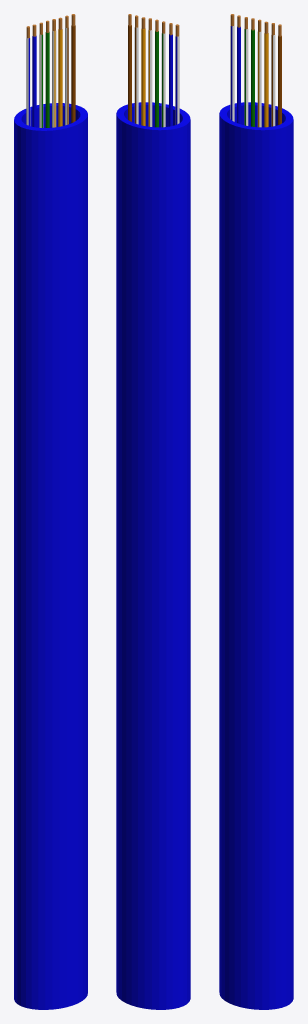
Rendered from remodelUnbundleCable.fbx.
3 renders of one model, left to right at view 1: azimuth 30°, elevation 25°; view 2: azimuth 150°, elevation 25°; view 3: azimuth 330°, elevation 25°, orthographic.
Parts seen in each view (by area): view 1: Main Cable, Orange, Brown, Orange/White, Green, Green/White, Blue, Blue/White, Brown/White; view 2: Main Cable, Orange/White, Brown/White, Orange, Green/White, Blue/White, Green, Brown, Blue; view 3: Main Cable, Green/White, Orange/White, Blue/White, Orange, Brown/White, Green, Blue, Brown.
Part boxes in pixels (left/top/right/bottom): Main Cable: left=14, top=103, right=87, bottom=1009; Orange: left=58, top=29, right=62, bottom=126; Brown: left=71, top=25, right=75, bottom=123; Orange/White: left=52, top=30, right=56, bottom=127; Green: left=45, top=32, right=49, bottom=127; Green/White: left=39, top=34, right=43, bottom=127; Blue: left=32, top=36, right=36, bottom=127; Blue/White: left=26, top=37, right=30, bottom=125; Brown/White: left=65, top=27, right=68, bottom=125; Main Cable: left=116, top=102, right=190, bottom=1009; Orange/White: left=148, top=29, right=152, bottom=126; Brown/White: left=134, top=27, right=138, bottom=124; Orange: left=141, top=28, right=145, bottom=125; Green/White: left=161, top=33, right=165, bottom=127; Blue/White: left=175, top=36, right=179, bottom=124; Green: left=155, top=31, right=158, bottom=127; Brown: left=128, top=25, right=131, bottom=121; Blue: left=169, top=34, right=172, bottom=126; Main Cable: left=219, top=102, right=293, bottom=1009; Green/White: left=244, top=28, right=248, bottom=125; Orange/White: left=257, top=31, right=261, bottom=127; Blue/White: left=230, top=25, right=234, bottom=121; Orange: left=264, top=33, right=268, bottom=127; Brown/White: left=271, top=34, right=275, bottom=126; Green: left=251, top=29, right=254, bottom=126; Blue: left=237, top=27, right=240, bottom=124; Brown: left=278, top=36, right=281, bottom=124.
Bounding box in the file's own units: 134 × 1857 × 107.
